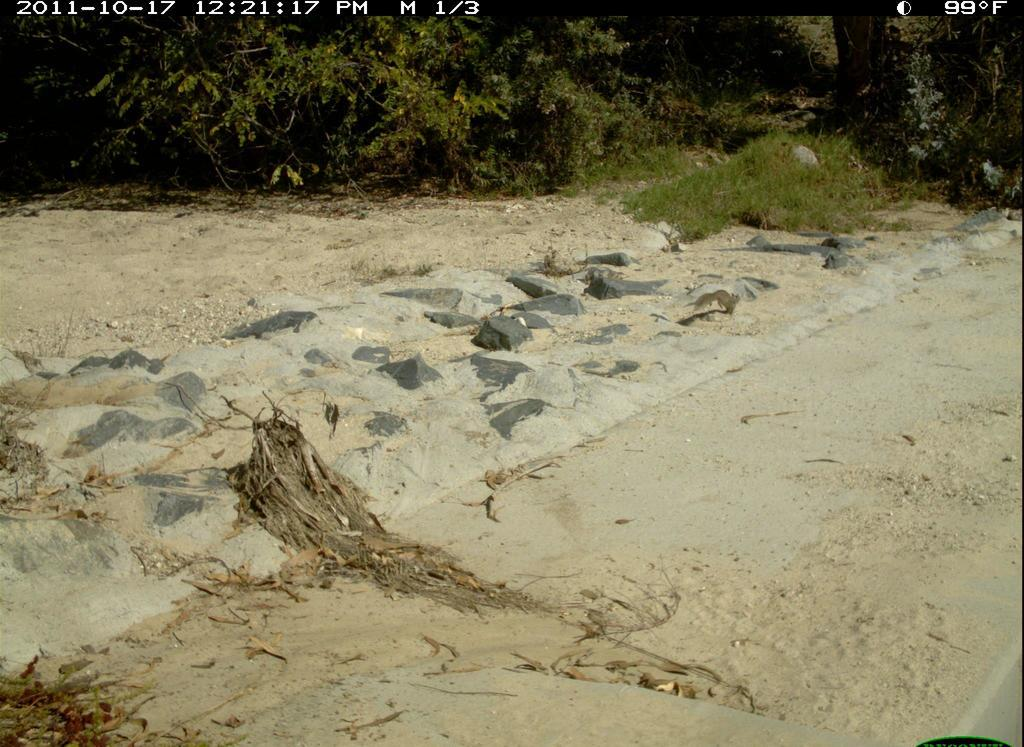squirrel: (689, 284, 744, 327)
